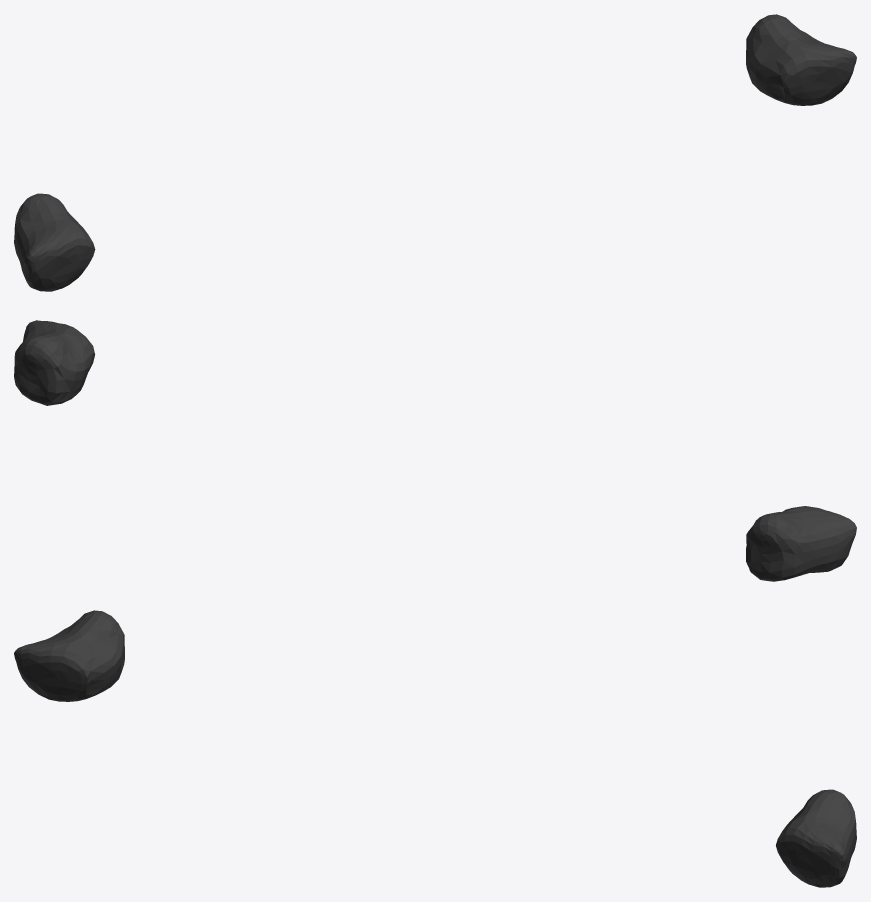
File: Carpal_third_1.glb
The picture shows the model from 3 angles, top to bottom: view 1: azimuth 30°, elevation 25°; view 2: azimuth 150°, elevation 25°; view 3: azimuth 330°, elevation 25°; orthographic projection.
Visible parts, largest first — view 1: Carpal_third_1; view 2: Carpal_third_1; view 3: Carpal_third_1.
Boxes of the visible parts, x1,y1,x2,y2 form: Carpal_third_1: (14, 14, 856, 291); Carpal_third_1: (14, 320, 856, 581); Carpal_third_1: (14, 610, 856, 887).
Size of the model in its own units: 0.00332 by 0.000267 by 0.000323.
1 material, 1 textured.
